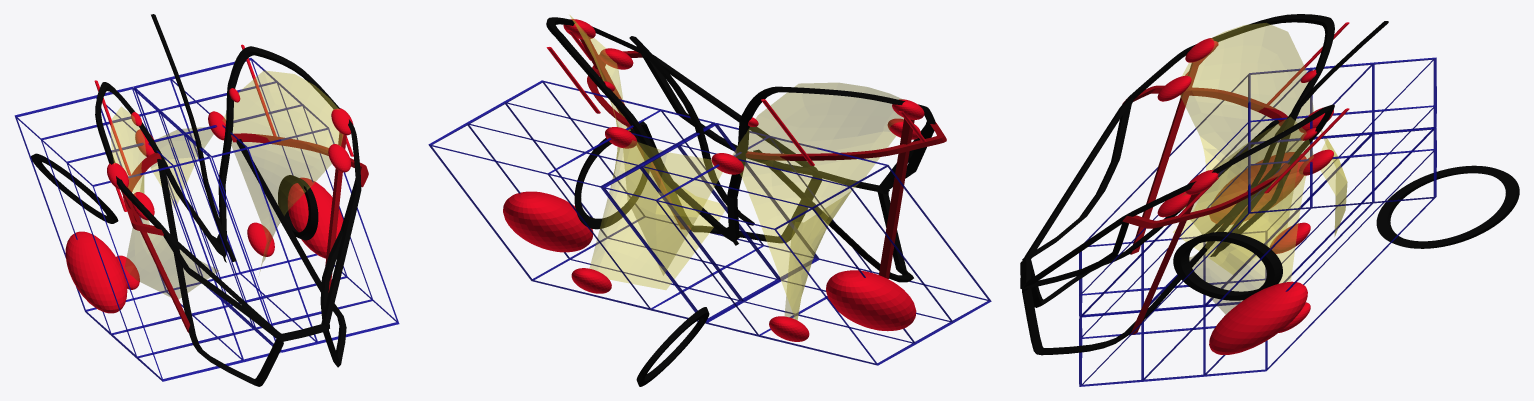
File: Pelvis.glb
3 renders of one model, left to right at view 1: azimuth 30°, elevation 25°; view 2: azimuth 150°, elevation 25°; view 3: azimuth 270°, elevation 25°, orthographic. The views are drawn at different scales.
Parts seen in each view (by area): view 1: Retopo_desirefx_me01.011, desirefx_me01.008, Cube, Sphere.022, Circle, desirefx_me01.009, desirefx_me01.010, Sphere.020, Sphere.021, Sphere.017, Sphere.015, Sphere.016 (+1 smaller); view 2: Retopo_desirefx_me01.011, Cube, desirefx_me01.008, Sphere.022, Circle, desirefx_me01.010, desirefx_me01.009, Sphere.021, Sphere.020, Sphere.016, Sphere.017, Sphere.015 (+1 smaller); view 3: Retopo_desirefx_me01.011, desirefx_me01.008, Cube, Sphere.022, Circle, desirefx_me01.009, desirefx_me01.010, Sphere.020, Sphere.015, Sphere.021, Sphere.017, Cylinder.001 (+1 smaller).
Part boxes in pixels (left/top/right/bottom): Retopo_desirefx_me01.011: left=110, top=70, right=343, bottom=299; desirefx_me01.008: left=95, top=46, right=361, bottom=386; Cube: left=14, top=58, right=399, bottom=381; Sphere.022: left=65, top=177, right=343, bottom=313; Circle: left=31, top=153, right=318, bottom=240; desirefx_me01.009: left=123, top=133, right=368, bottom=235; desirefx_me01.010: left=120, top=132, right=346, bottom=332; Sphere.020: left=151, top=14, right=236, bottom=261; Sphere.021: left=116, top=222, right=274, bottom=289; Sphere.017: left=107, top=108, right=353, bottom=189; Sphere.015: left=132, top=144, right=350, bottom=220; Sphere.016: left=135, top=111, right=225, bottom=156; Retopo_desirefx_me01.011: left=569, top=15, right=903, bottom=320; Cube: left=428, top=80, right=991, bottom=365; desirefx_me01.008: left=546, top=17, right=935, bottom=282; Sphere.022: left=503, top=191, right=916, bottom=331; Circle: left=574, top=128, right=709, bottom=386; desirefx_me01.010: left=580, top=39, right=914, bottom=278; desirefx_me01.009: left=587, top=50, right=946, bottom=160; Sphere.021: left=571, top=268, right=809, bottom=341; Sphere.020: left=629, top=36, right=754, bottom=225; Sphere.016: left=605, top=127, right=743, bottom=174; Sphere.017: left=563, top=19, right=924, bottom=119; Sphere.015: left=600, top=48, right=920, bottom=139; Retopo_desirefx_me01.011: left=1173, top=23, right=1347, bottom=314; desirefx_me01.008: left=1020, top=14, right=1334, bottom=355; Cube: left=1079, top=57, right=1436, bottom=386; Sphere.022: left=1209, top=152, right=1307, bottom=354; Circle: left=1173, top=165, right=1519, bottom=300; desirefx_me01.009: left=1122, top=85, right=1290, bottom=228; desirefx_me01.010: left=1130, top=60, right=1200, bottom=334; Sphere.020: left=1194, top=21, right=1388, bottom=246; Sphere.015: left=1157, top=75, right=1191, bottom=217; Sphere.021: left=1269, top=222, right=1310, bottom=332; Sphere.017: left=1185, top=38, right=1218, bottom=194; Cylinder.001: left=1264, top=22, right=1349, bottom=193.
Size of the model in its own units: 7.1 by 6.52 by 9.55.
